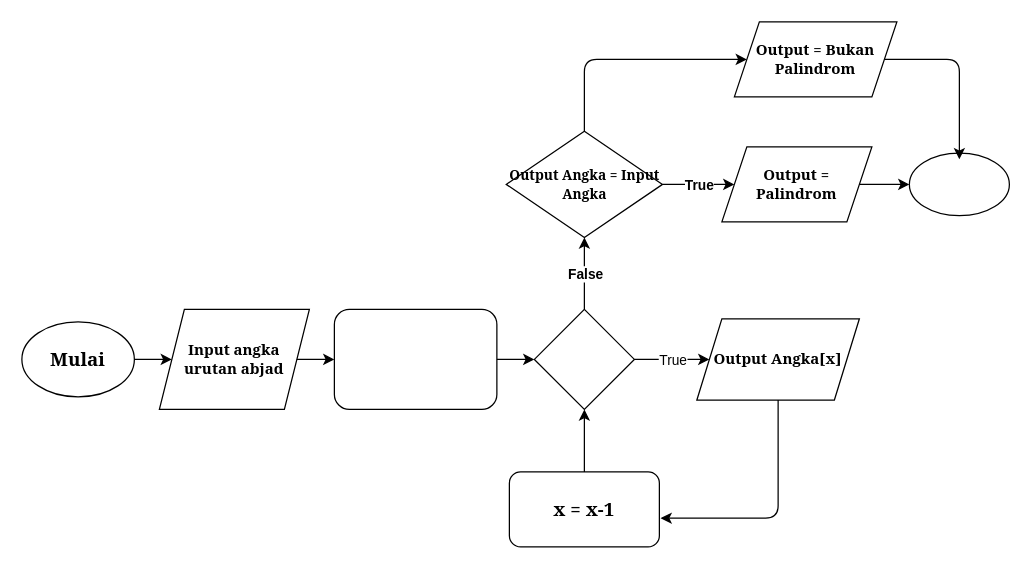
Some shapes in this 1031 by 569 pixel diagram are drawn without their labels. Each missing label, with the centre of its shape:
"Selesai" belongs at [958,184].
"x = angka.length-1" belongs at [415,358].
"x >= 0" belongs at [583,358].
